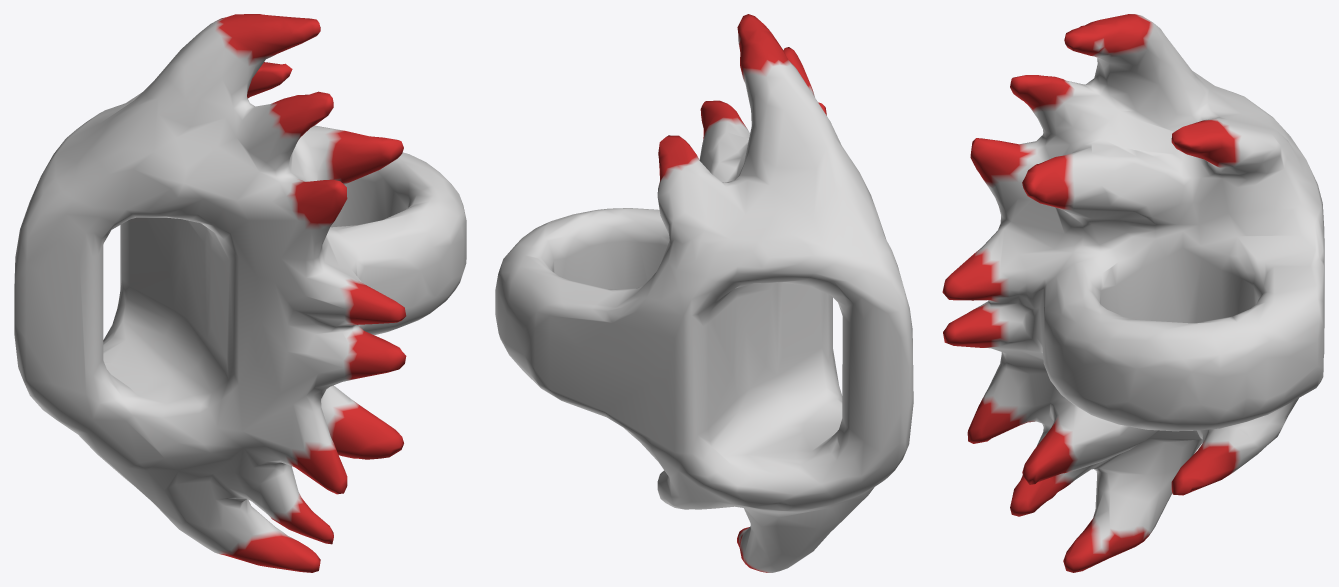
The model's file is c59f2145-5a73-4437-bb67-8cb8decc3e74.glb.
3 renders of one model, left to right at view 1: azimuth 30°, elevation 25°; view 2: azimuth 150°, elevation 25°; view 3: azimuth 270°, elevation 25°, orthographic. The views are drawn at different scales.
Size of the model in its own units: 12.16 by 15.07 by 9.7.
